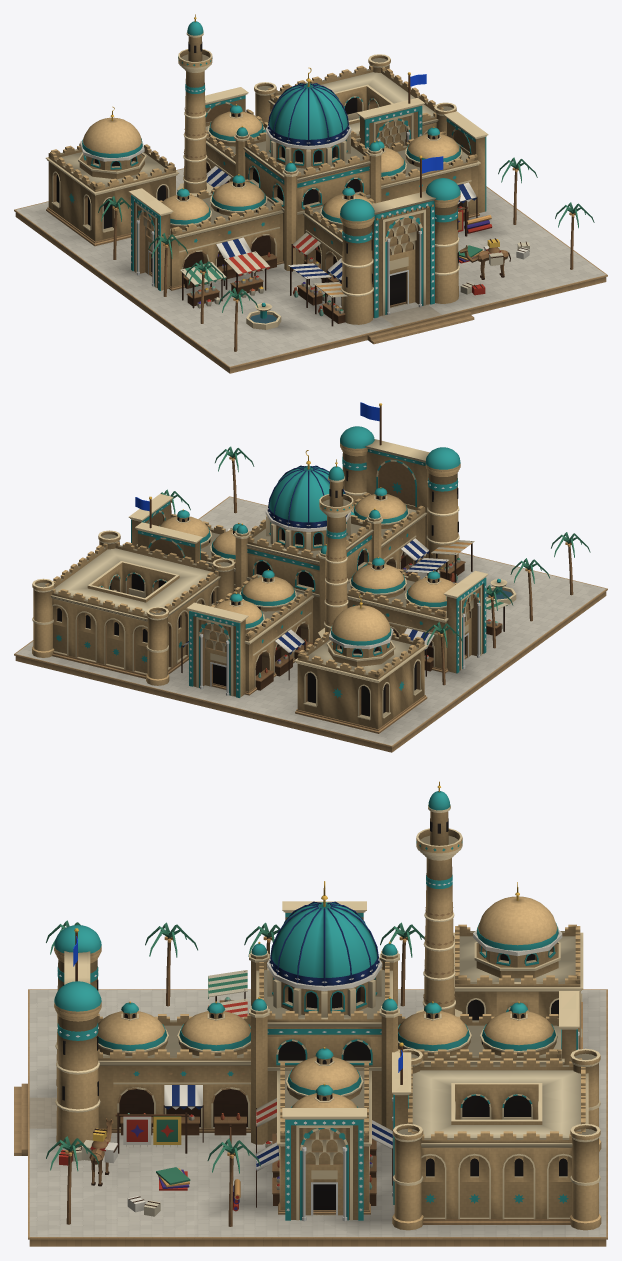
File: lm_bagdatcarsi.glb
The picture shows the model from 3 angles, top to bottom: view 1: azimuth 30°, elevation 25°; view 2: azimuth 150°, elevation 25°; view 3: azimuth 270°, elevation 25°; orthographic projection. The views are drawn at different scales.
Parts seen in each view (by area): view 1: lm_bagdatcarsi; view 2: lm_bagdatcarsi; view 3: lm_bagdatcarsi.
Boxes of the visible parts, box(x1,y1,x2,y2) form: lm_bagdatcarsi: box(14, 14, 607, 373); lm_bagdatcarsi: box(14, 402, 607, 752); lm_bagdatcarsi: box(14, 781, 607, 1246).
Bounding box in the file's own units: 2.25 × 1.25 × 2.28.
Materials: 1 (1 with a texture image).
